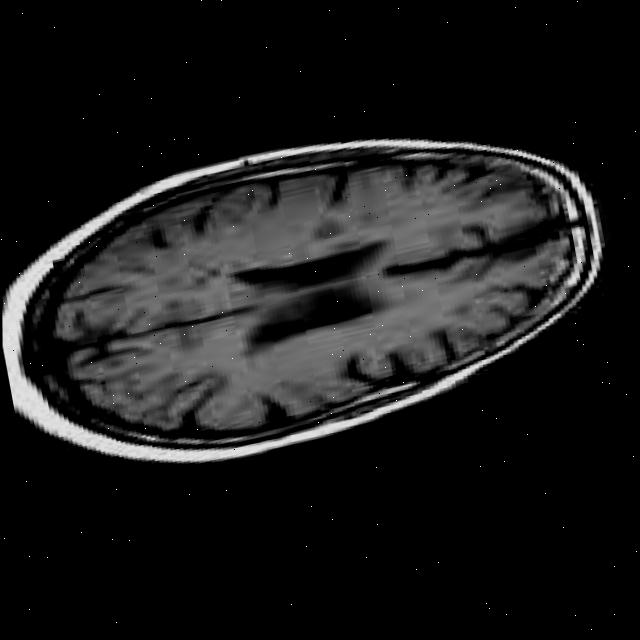NoTumor: (23, 104, 600, 479)
